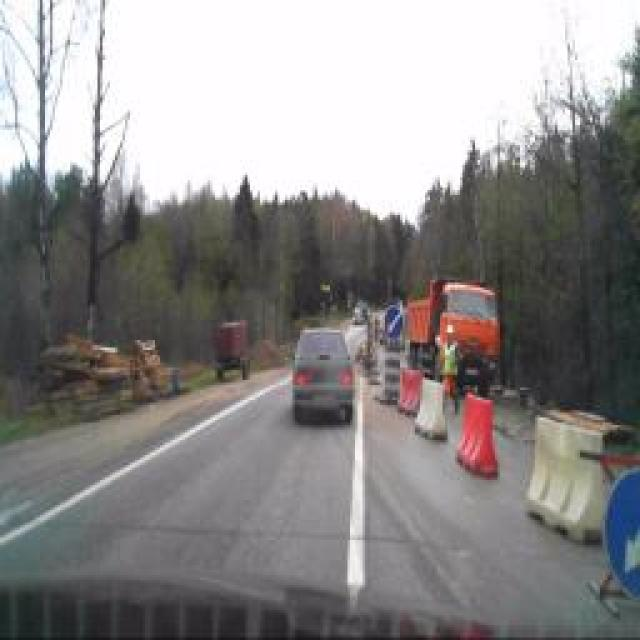sign: (384, 305, 404, 340)
